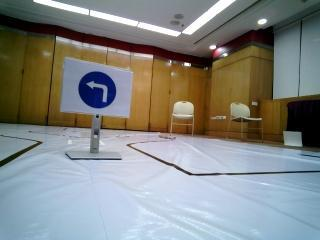left: (63, 54, 130, 113)
